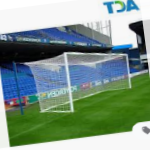goals: (28, 50, 132, 116)
